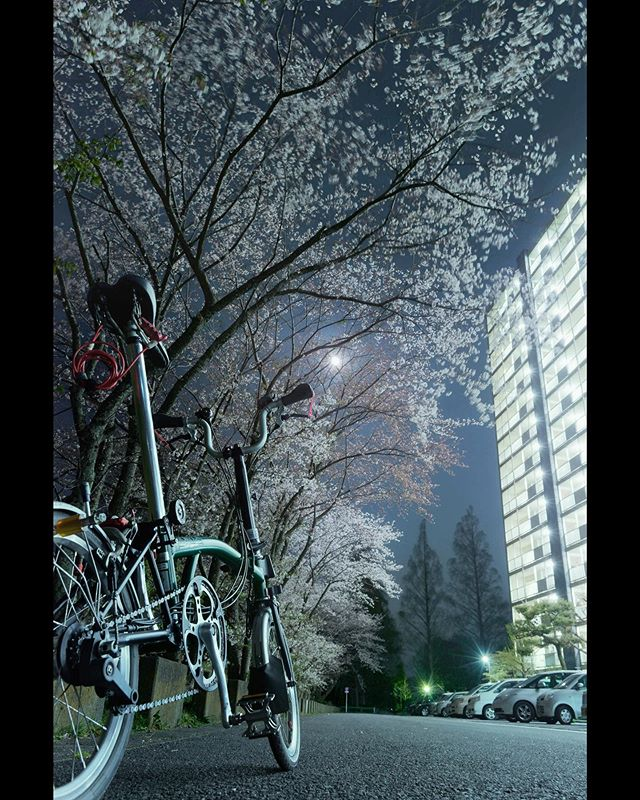bicicle: (52, 275, 316, 800)
building: (466, 187, 587, 644)
tree: (56, 1, 554, 618), (446, 505, 509, 671), (398, 513, 446, 675)
